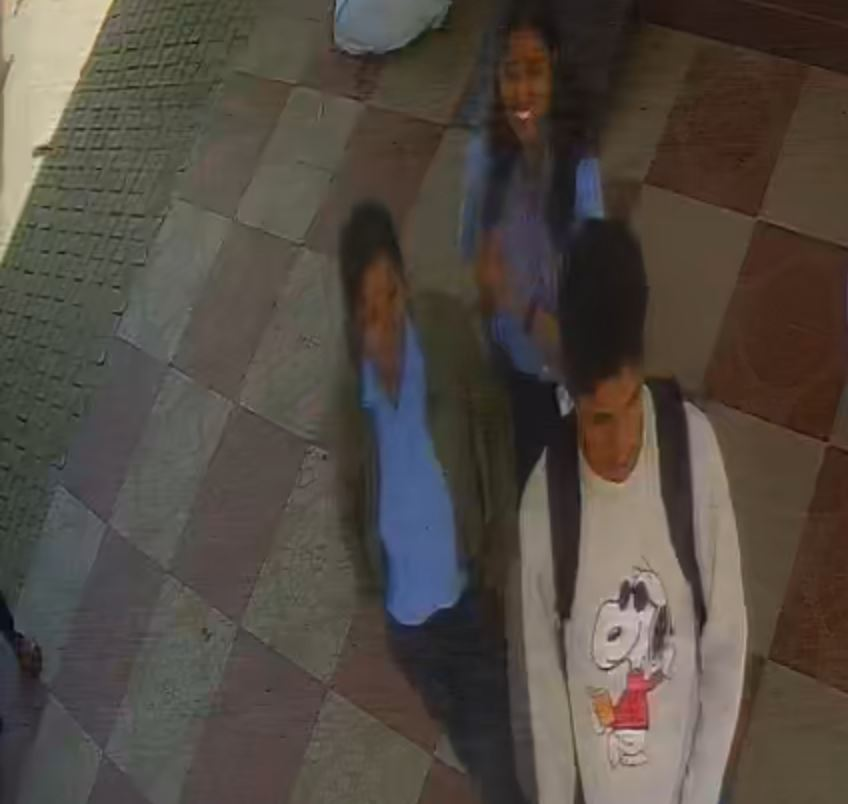not intruder: (520, 212, 760, 804), (326, 195, 529, 801), (463, 9, 611, 402)
